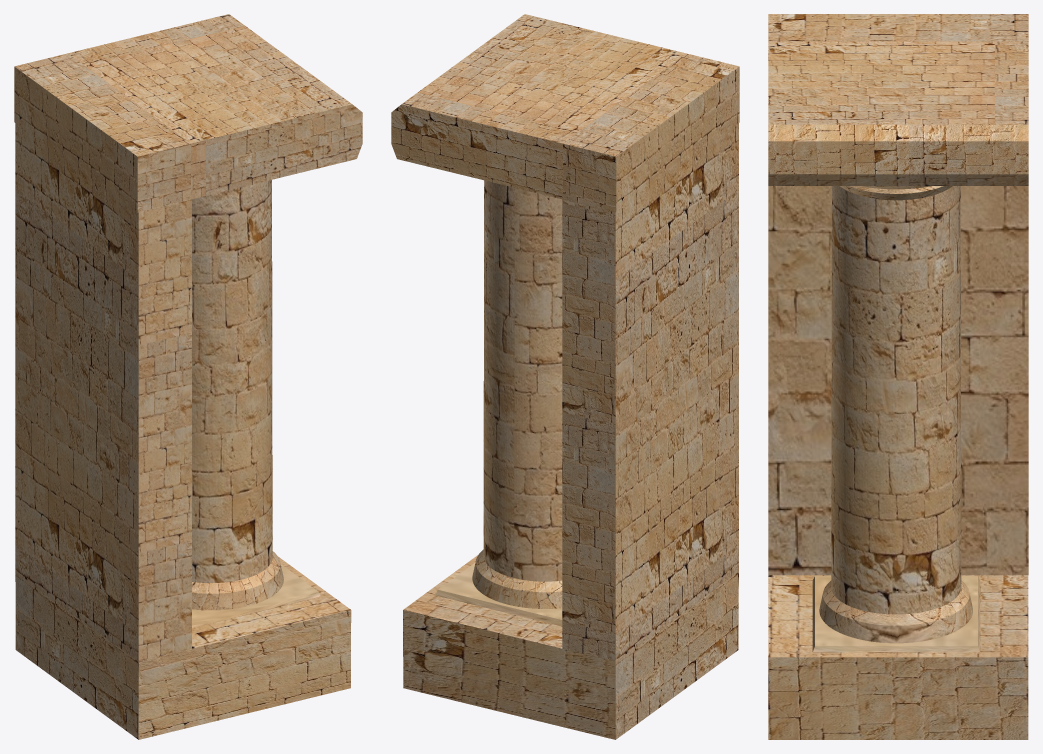
Rendered from Wall.fbx.
3 renders of one model, left to right at view 1: azimuth 30°, elevation 25°; view 2: azimuth 150°, elevation 25°; view 3: azimuth 270°, elevation 25°, orthographic. The views are drawn at different scales.
Parts seen in each view (by area): view 1: Cube.002, Cube.001; view 2: Cube.002, Cube.001; view 3: Cube.002, Cube.001.
Part boxes in pixels (left/top/right/bottom): Cube.002: left=14, top=14, right=362, bottom=739; Cube.001: left=192, top=180, right=320, bottom=627; Cube.002: left=391, top=14, right=739, bottom=739; Cube.001: left=435, top=180, right=562, bottom=626; Cube.002: left=768, top=14, right=1028, bottom=739; Cube.001: left=812, top=186, right=980, bottom=652.
Bounding box in the file's own units: 421 × 1044 × 400.
